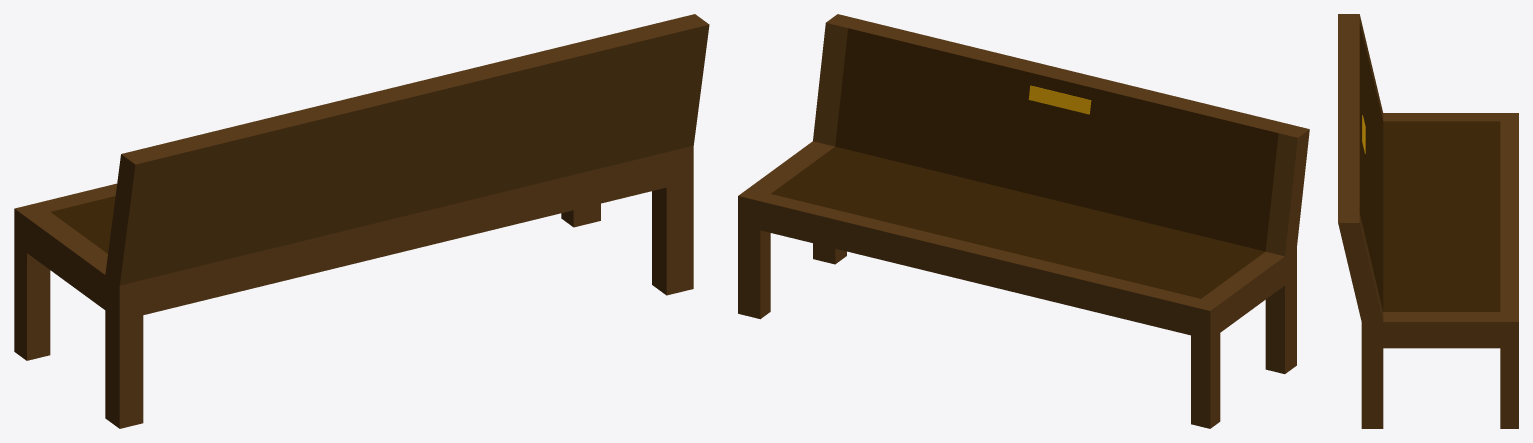
File: Chair A3.fbx
3 renders of one model, left to right at view 1: azimuth 30°, elevation 25°; view 2: azimuth 150°, elevation 25°; view 3: azimuth 270°, elevation 25°, orthographic. The views are drawn at different scales.
Visible parts, largest first — view 1: Cube; view 2: Cube; view 3: Cube.
Boxes of the visible parts, <box> form: Cube: <box>14,14,709,428</box>; Cube: <box>738,14,1309,428</box>; Cube: <box>1338,14,1518,428</box>.
Bounding box in the file's own units: 171 × 78.72 × 62.63.
